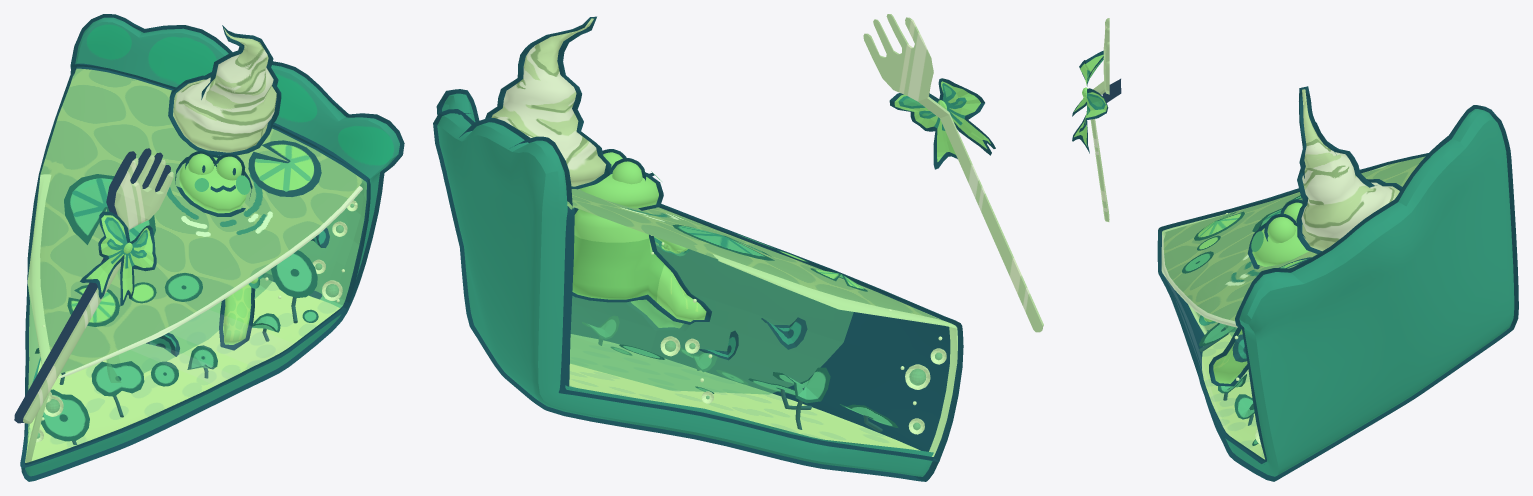
The model's file is froggy pie.gltf.
3 renders of one model, left to right at view 1: azimuth 30°, elevation 25°; view 2: azimuth 150°, elevation 25°; view 3: azimuth 270°, elevation 25°, orthographic. The views are drawn at different scales.
Parts seen in each view (by area): view 1: Pie_18, Lilypads_17, Cream_10, Body_3, Fork_14, Circle.003_7, Ribbon 2_20, Fork Shadow 1_15, Cube.003_11, Big Bubbles_2, Eye 2_13, Eye_12; view 2: Pie_18, Cube.003_11, Body_3, Cream_10, Fork_14, Lilypads_17, Ribbon 2_20, Big Bubbles_2, Circle.003_7, Eye_12; view 3: Pie_18, Cream_10, Body_3, Lilypads_17, Ribbon 2_20, Fork_14, Eye 2_13.
Part boxes in pixels (x1,y1,x2,y2): Pie_18: (20,14,404,481); Lilypads_17: (35,174,318,441); Cream_10: (168,25,281,155); Body_3: (175,154,255,350); Fork_14: (23,155,173,423); Circle.003_7: (146,140,329,356); Ribbon 2_20: (80,211,156,306); Fork Shadow 1_15: (14,148,170,423); Cube.003_11: (106,256,290,382); Big Bubbles_2: (30,200,357,442); Eye 2_13: (214,153,245,180); Eye_12: (185,150,216,174); Pie_18: (433,89,963,481); Cube.003_11: (570,242,853,394); Body_3: (572,174,711,330); Cream_10: (485,16,611,189); Fork_14: (863,14,1043,332); Lilypads_17: (582,224,898,427); Ribbon 2_20: (889,78,995,169); Big Bubbles_2: (660,336,946,434); Circle.003_7: (699,317,807,360); Eye_12: (610,158,645,184); Pie_18: (1157,105,1518,481); Cream_10: (1296,86,1402,253); Body_3: (1209,222,1308,386); Lilypads_17: (1182,195,1302,445); Ribbon 2_20: (1072,50,1108,153); Fork_14: (1090,18,1109,221); Eye 2_13: (1264,213,1297,243).
Size of what is drawn, in the model's own units: 1.75 by 1.37 by 1.38.
25 materials, 7 textured.
